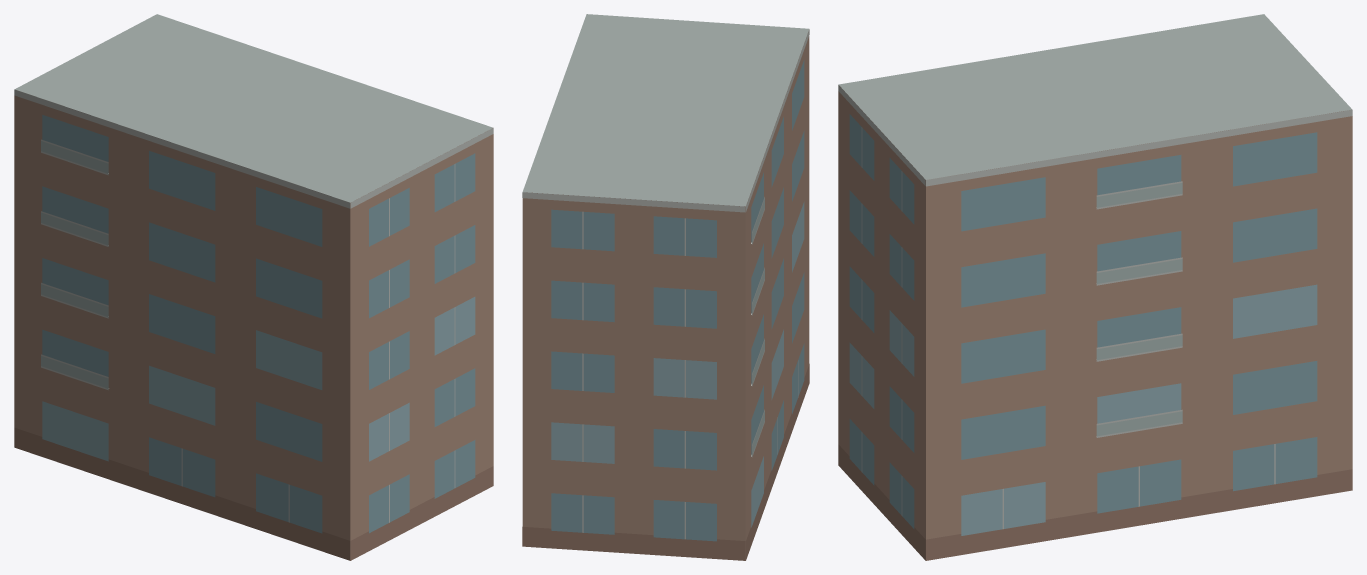
The model's file is survey-upis-32722176.glb.
The picture shows the model from 3 angles, left to right: view 1: azimuth 30°, elevation 25°; view 2: azimuth 150°, elevation 25°; view 3: azimuth 270°, elevation 25°; orthographic projection. The views are drawn at different scales.
Visible parts, largest first — view 1: survey-upis-32722176.tmp; view 2: survey-upis-32722176.tmp; view 3: survey-upis-32722176.tmp.
Boxes of the visible parts, left/top/right/bottom form: survey-upis-32722176.tmp: left=14, top=14, right=493, bottom=560; survey-upis-32722176.tmp: left=522, top=14, right=809, bottom=560; survey-upis-32722176.tmp: left=838, top=14, right=1352, bottom=560.
Bounding box in the file's own units: 13.43 × 14.35 × 17.57.
